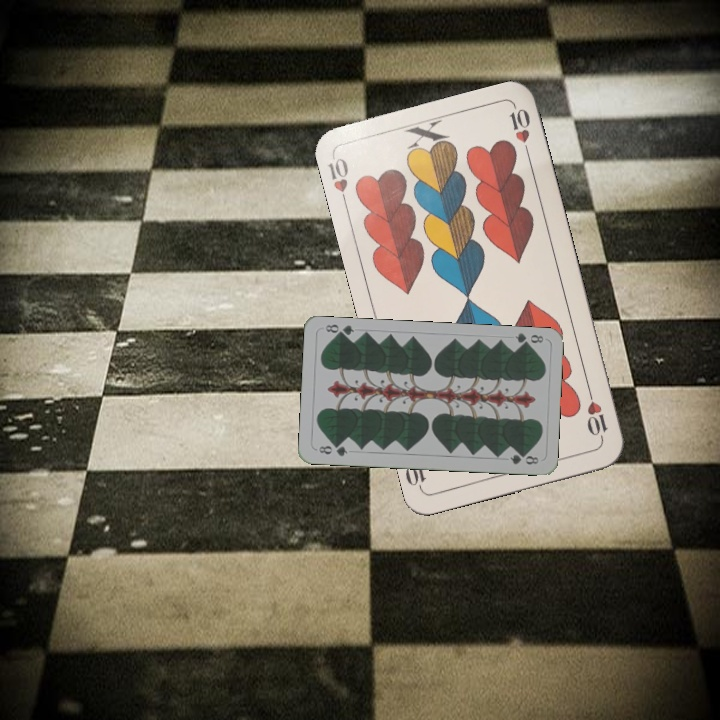G8: (511, 329, 546, 349), (315, 441, 350, 459)
H10: (583, 385, 610, 443), (324, 153, 351, 210)
